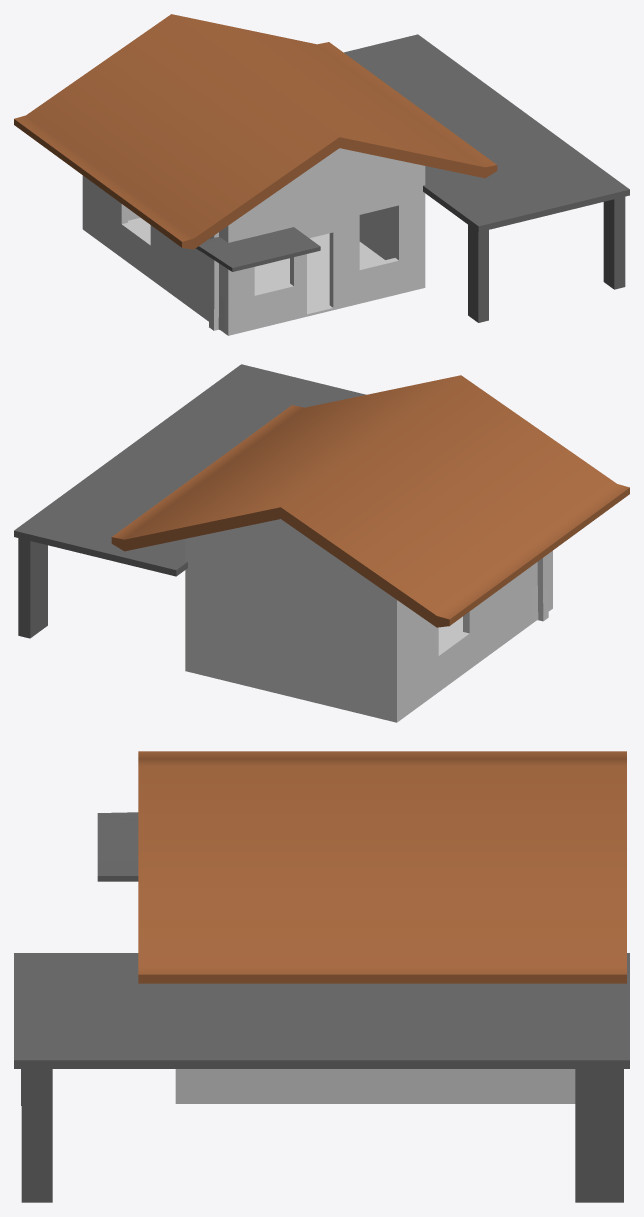
The model's file is House 1 New.fbx.
3 views of the same model, one above another, from view 1: azimuth 30°, elevation 25°; view 2: azimuth 150°, elevation 25°; view 3: azimuth 270°, elevation 25° (orthographic). The views are drawn at different scales.
Parts seen in each view (by area): view 1: polySurface9; view 2: polySurface9; view 3: polySurface9.
Boxes of the visible parts, x1,y1,x2,y2 form: polySurface9: [14, 14, 629, 335]; polySurface9: [14, 364, 629, 722]; polySurface9: [14, 751, 629, 1202].
Bounding box in the file's own units: 52.32 × 22.77 × 47.42.
